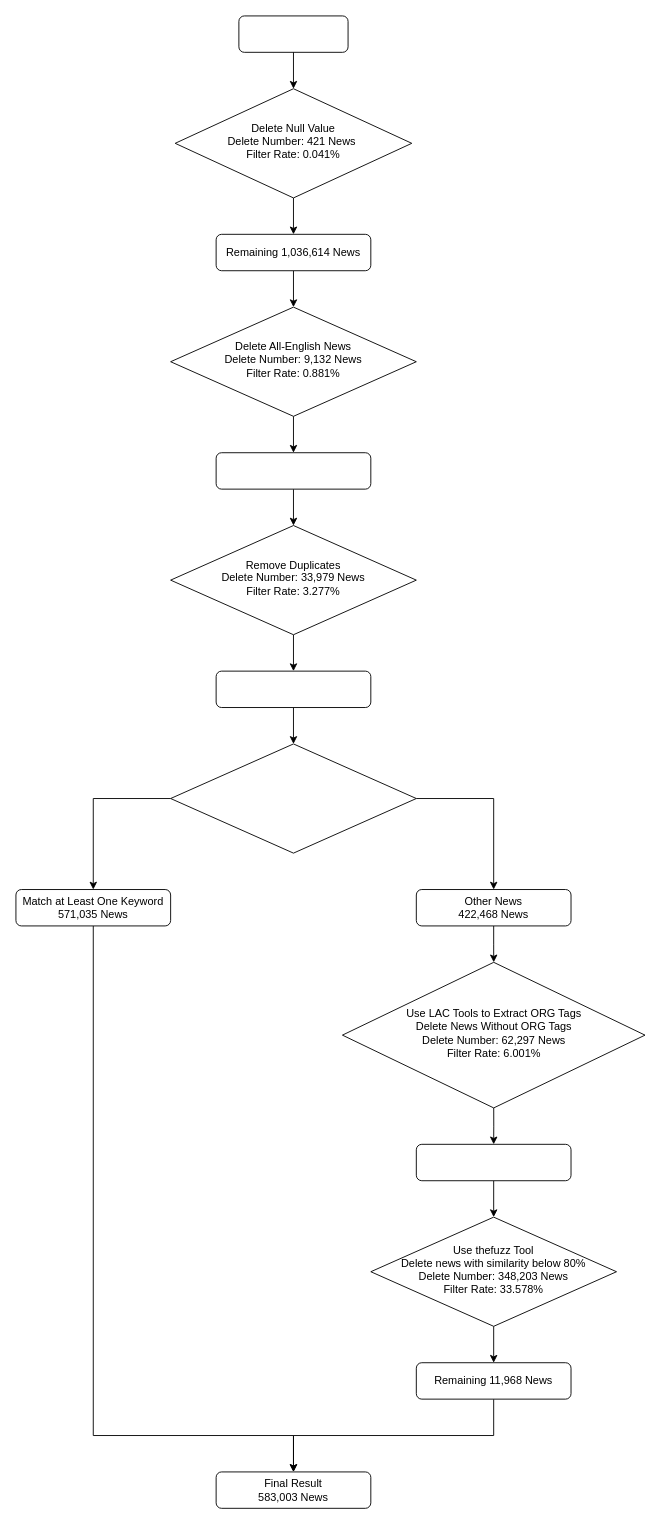
Some shapes in this 662 by 1524 pixel diagram are drawn without their labels. The centre of each missing label's shape, as x and y in pixels:
Match at Least One Keyword? (name, fullname, code): [293,798]
News.xlsx Number: 1,037,035: [293,33]
Remaining 1,027,482 News: [293,470]
Remaining 360,171 News: [493,1162]
Remaining 993,503 News: [293,689]
